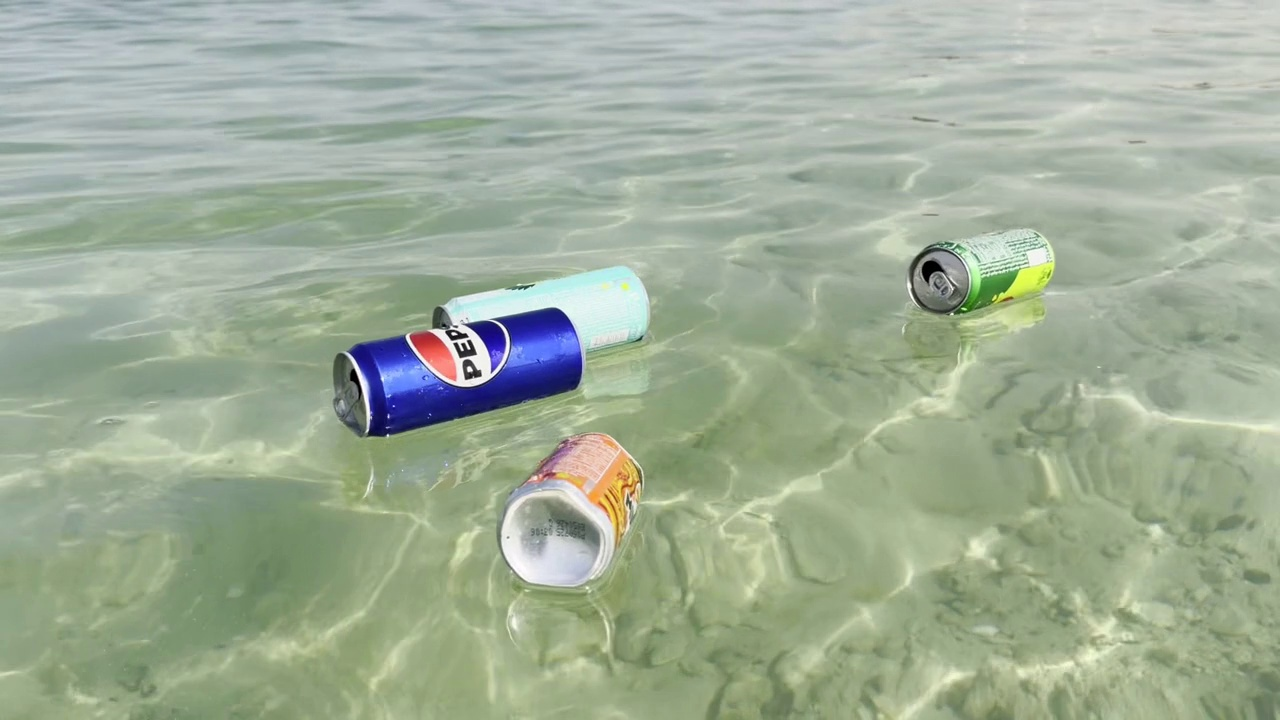debris: (315, 303, 591, 445), (483, 419, 659, 605), (427, 258, 665, 382), (899, 212, 1072, 325)
